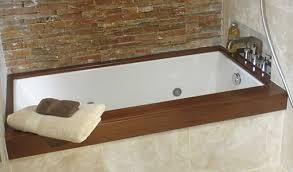bathub: (3, 45, 288, 172)
